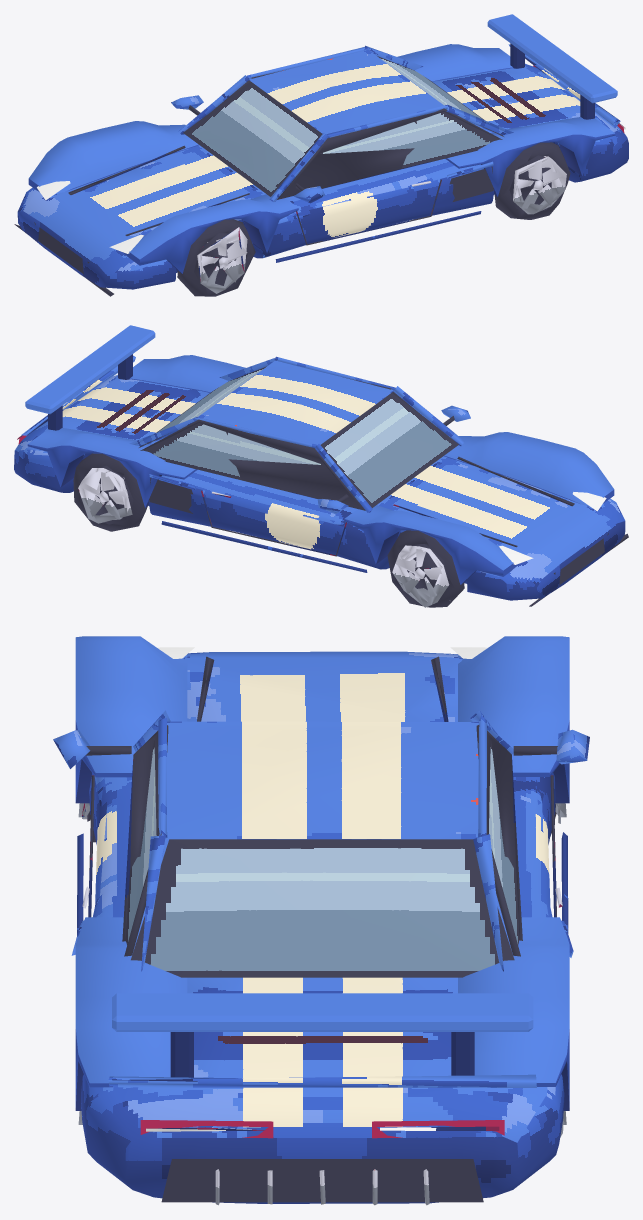
3 renders of one model, top to bottom at view 1: azimuth 30°, elevation 25°; view 2: azimuth 150°, elevation 25°; view 3: azimuth 270°, elevation 25°, orthographic. The views are drawn at different scales.
Visible parts, largest first — view 1: Body_static, Wheel_RL_tire_hub, Wheel_FL_tire_hub; view 2: Body_static, Wheel_FR_tire_hub, Wheel_RR_tire_hub; view 3: Body_static.
Part boxes in pixels (<box>): Body_static: <box>14,14,628,296</box>; Wheel_RL_tire_hub: <box>494,142,570,219</box>; Wheel_FL_tire_hub: <box>177,219,255,296</box>; Body_static: <box>14,325,628,606</box>; Wheel_FR_tire_hub: <box>387,530,464,607</box>; Wheel_RR_tire_hub: <box>73,453,147,531</box>; Body_static: <box>53,636,589,1205</box>.
Bounding box in the file's own units: 81.02 × 18.61 × 35.93.
1 material, 1 textured.
